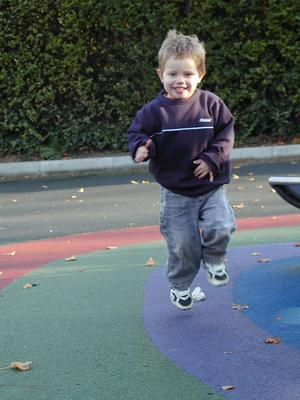person: (130, 31, 238, 312)
